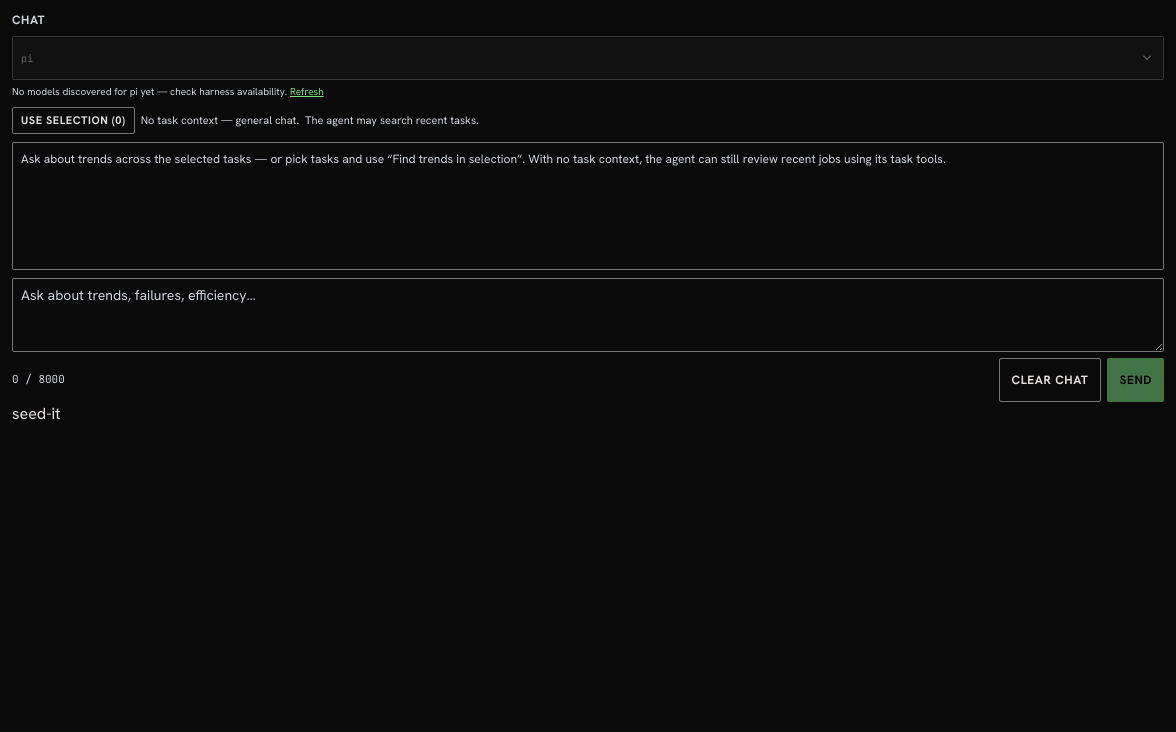
Test: RetrospectiveChat › ignores a rapid double-send while a turn is already pending
This screenshot has width=1176, height=732.
Type "one turn only" into the text box with test id "retrospective-chat-input" at (588, 314), box x1=12 y1=278 x2=1164 y2=352
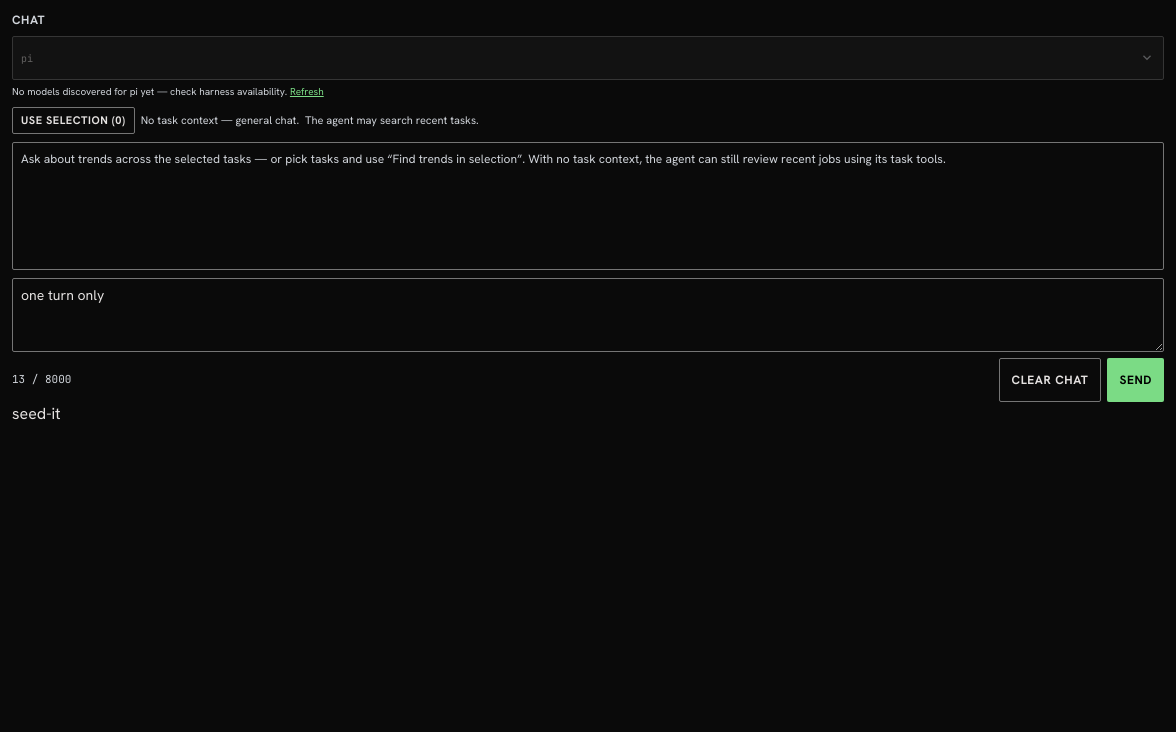
Click the button with test id "retrospective-chat-send" at (1136, 380), box x1=1107 y1=358 x2=1164 y2=402
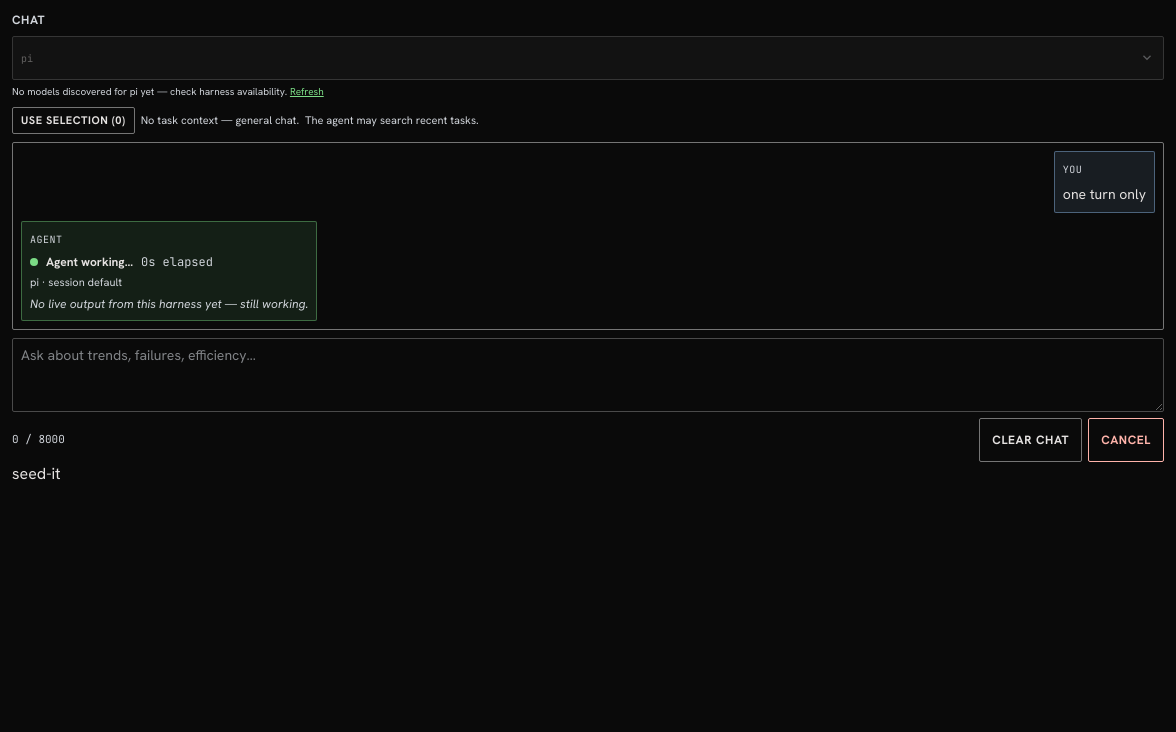
Expected: the element with test id "retrospective-chat-pending" is shown, x1=21 y1=220 x2=317 y2=320
Press Enter in the text box with test id "retrospective-chat-input", box x1=12 y1=338 x2=1164 y2=412
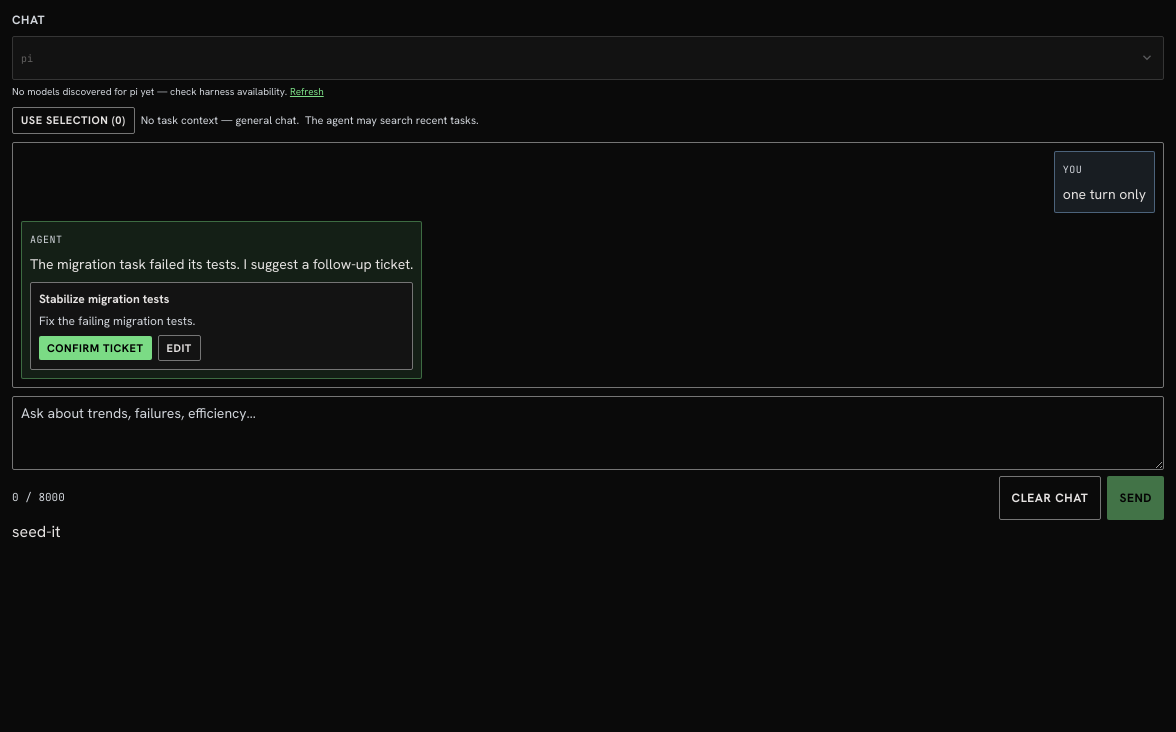
Expected: the element with test id "retrospective-chat-message-0" shows "one turn only", x1=1063 y1=184 x2=1146 y2=202
Expected: the element with test id "retrospective-chat-message-1" is shown, x1=21 y1=220 x2=422 y2=378
